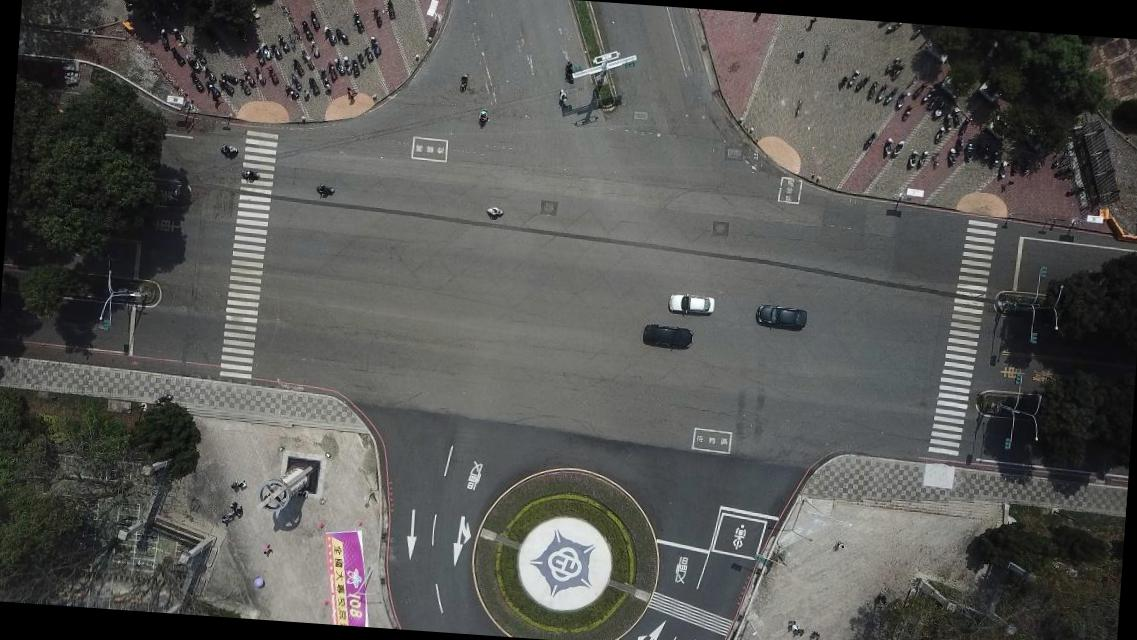vehicle: (751, 302, 810, 333), (640, 322, 692, 352), (666, 292, 717, 318)
